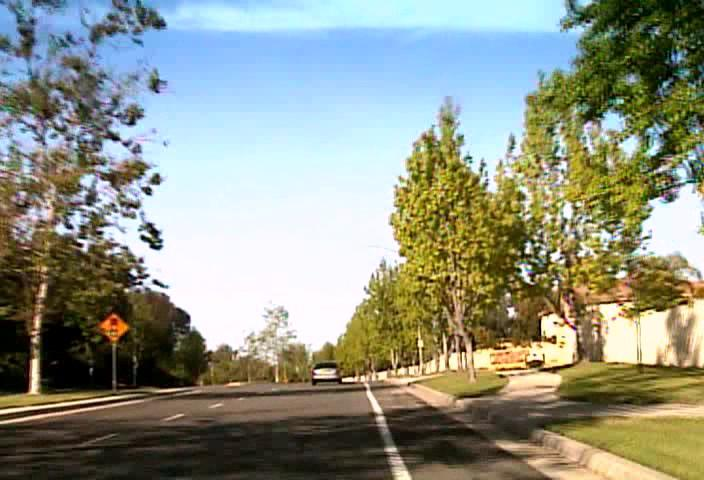signalAhead: (97, 311, 129, 343)
